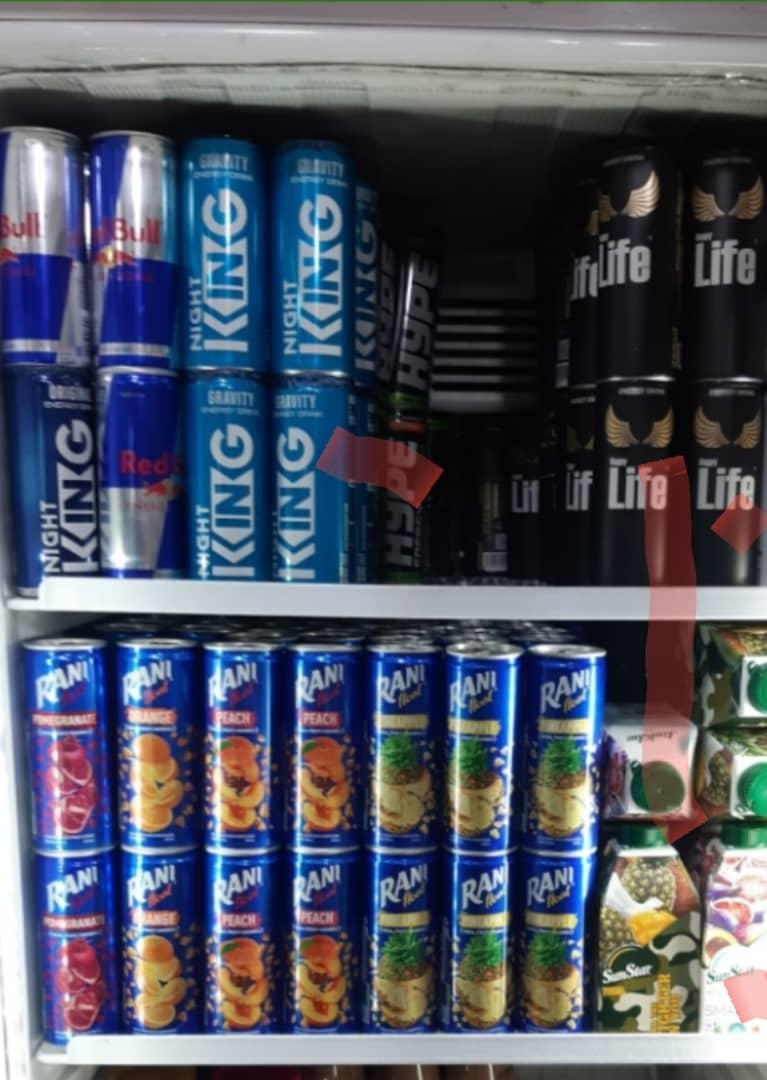Peach: (282, 858, 366, 1034), (206, 654, 287, 836), (302, 654, 374, 830), (212, 856, 278, 1024)
Pineapple: (376, 652, 446, 843), (534, 658, 606, 842), (374, 858, 445, 1033), (452, 658, 516, 850), (456, 858, 524, 1024)
